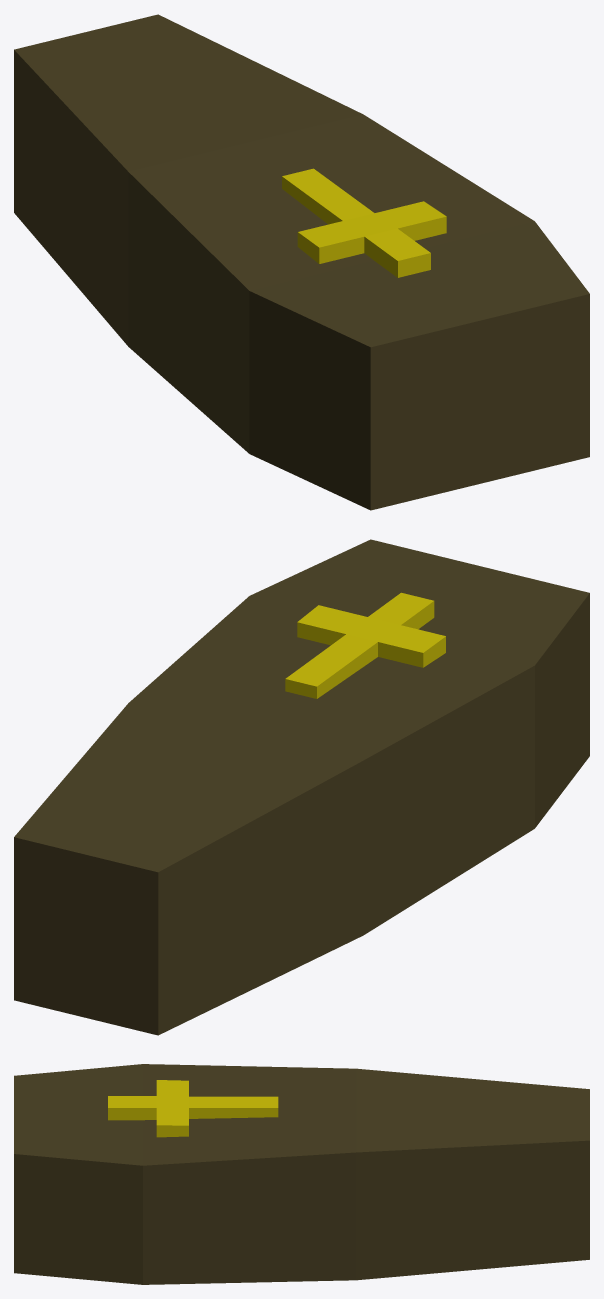
Rendered from koporso.glb.
3 views of the same model, one above another, from view 1: azimuth 30°, elevation 25°; view 2: azimuth 150°, elevation 25°; view 3: azimuth 270°, elevation 25° (orthographic). The views are drawn at different scales.
Parts seen in each view (by area): view 1: Cube, Cube.001; view 2: Cube, Cube.001; view 3: Cube, Cube.001.
Part boxes in pixels (box(x1,y1,x2,y2)): Cube: box(14, 14, 589, 510); Cube.001: box(282, 168, 446, 277); Cube: box(14, 539, 589, 1035); Cube.001: box(285, 592, 445, 698); Cube: box(14, 1064, 589, 1284); Cube.001: box(108, 1080, 278, 1137).
Size of the model in its own units: 2.6 by 1.62 by 6.23.
Materials: 2 (2 with a texture image).
